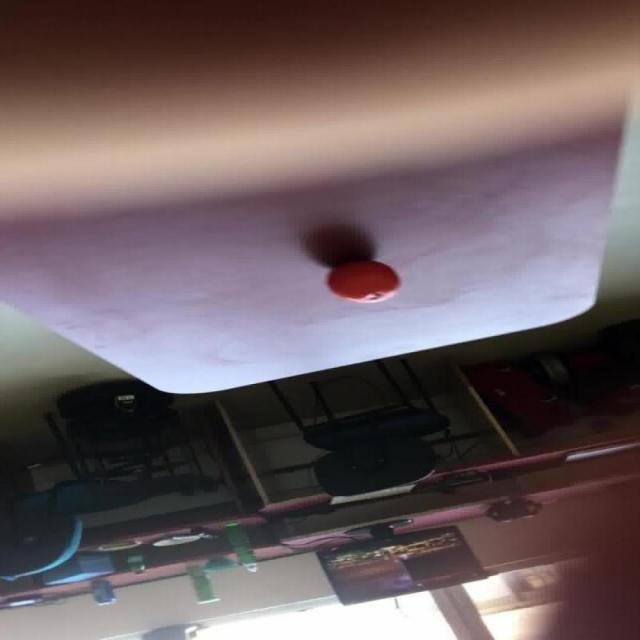Orange: (325, 259, 400, 303)
